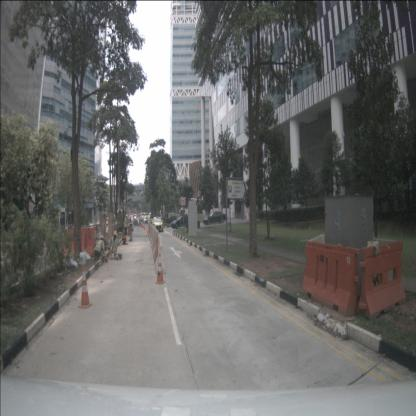movable_object-barrier: (301, 241, 358, 316), (358, 241, 406, 318), (307, 232, 328, 284), (62, 227, 96, 257), (154, 234, 166, 274), (154, 231, 162, 265), (152, 229, 159, 257), (151, 228, 156, 251), (150, 226, 155, 246), (148, 225, 153, 242)
movable_object-trafficcone: (78, 266, 92, 309), (154, 252, 166, 284)
vehicle-car: (170, 214, 196, 229), (203, 211, 226, 225), (151, 217, 164, 232), (143, 216, 148, 224)
